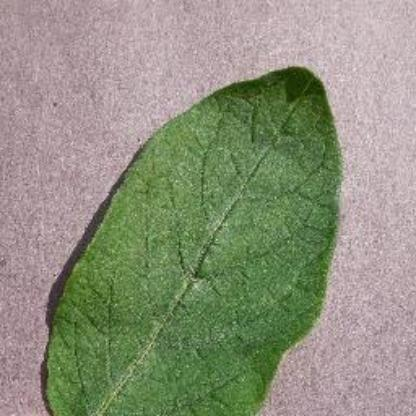Healthy-plant: (37, 61, 351, 415)
